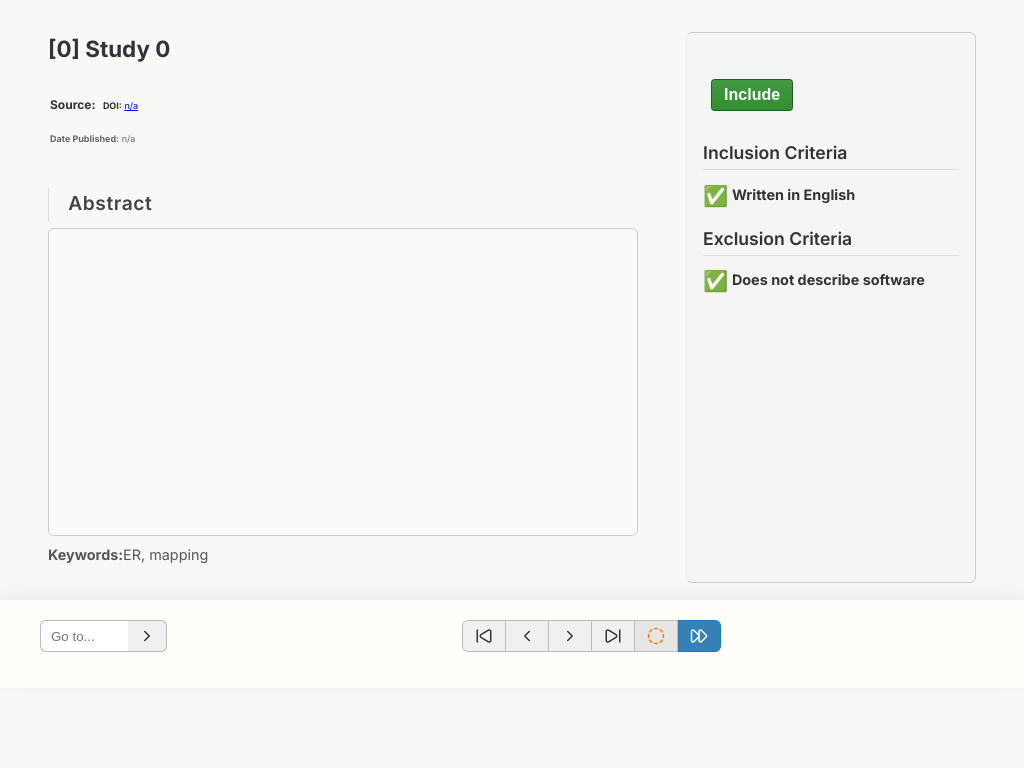
Scenario: EvidenceEditor › saves a decision and reports persistence errors
Check: the heading "[0] Study 0" is shown, box top-left (48, 35), bottom-right (170, 62)
Click the button "Include" at (752, 95), box top-left (711, 79), bottom-right (793, 111)
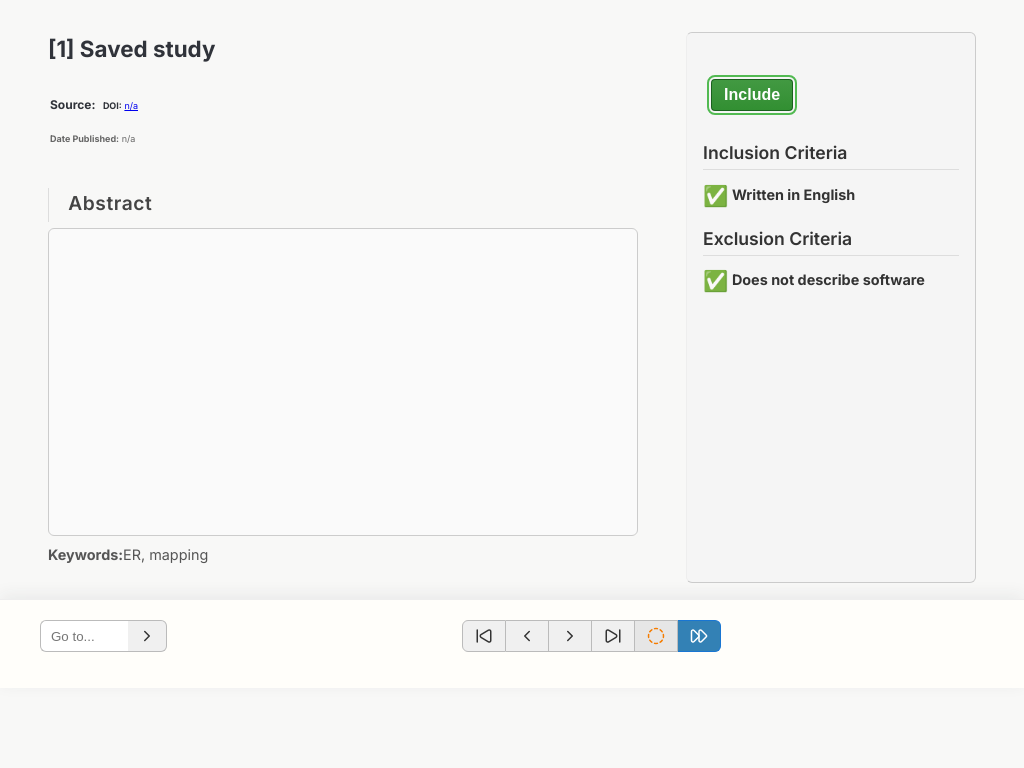
Check: the heading "[1] Saved study" is shown, box top-left (48, 35), bottom-right (215, 62)
Click the button titled "First item" at (484, 636), box top-left (462, 620), bottom-right (506, 652)
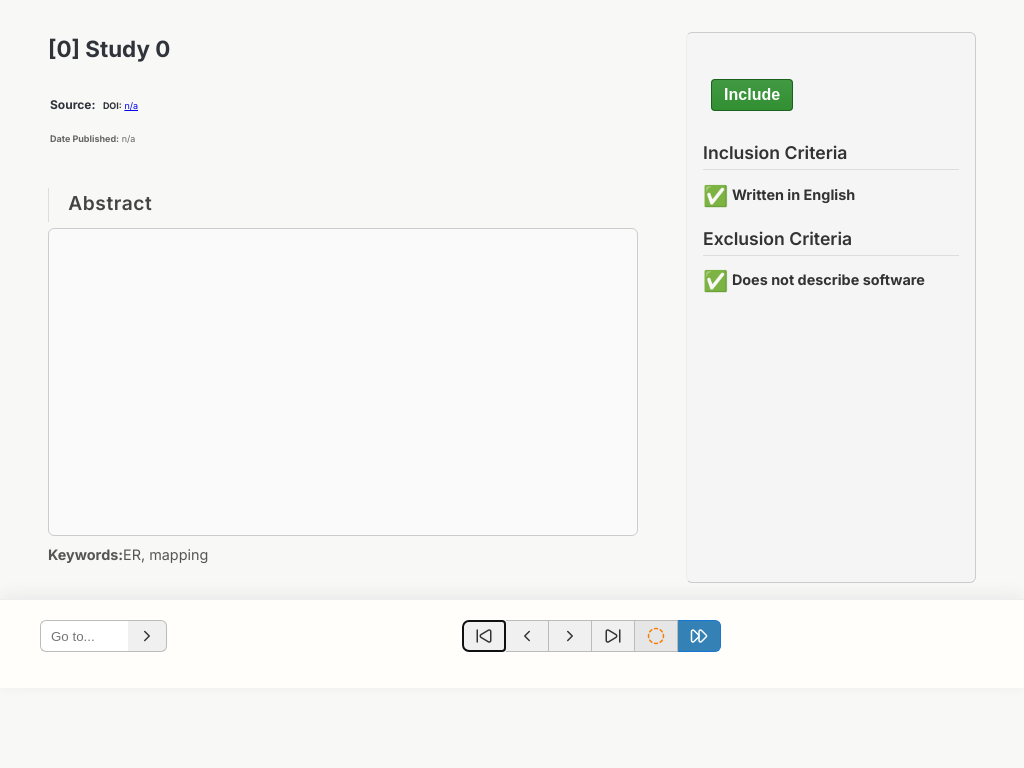
Click the button "Include" at (752, 95), box top-left (711, 79), bottom-right (793, 111)
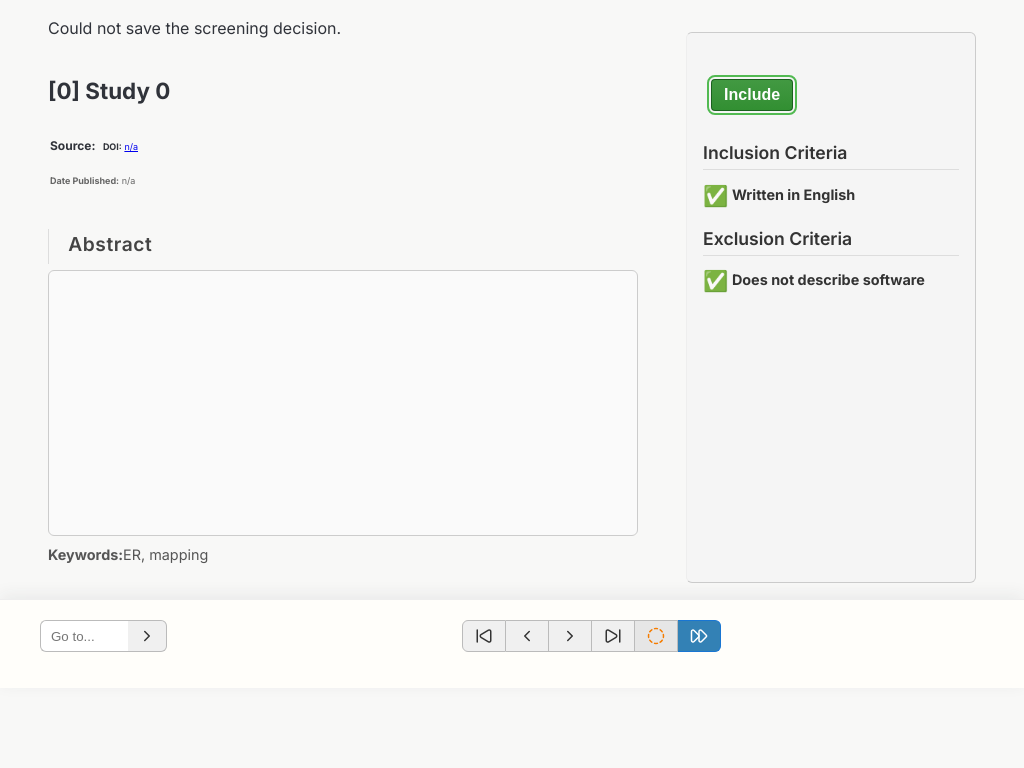
Check: the message reads "Could not save the screening decision.", box top-left (48, 18), bottom-right (341, 38)
